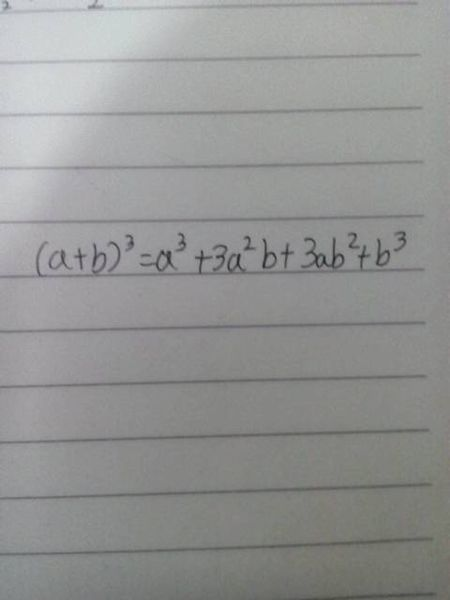cube: (174, 232, 186, 258), (121, 229, 133, 253), (395, 230, 405, 252)
square: (239, 233, 259, 252), (345, 228, 359, 251)
